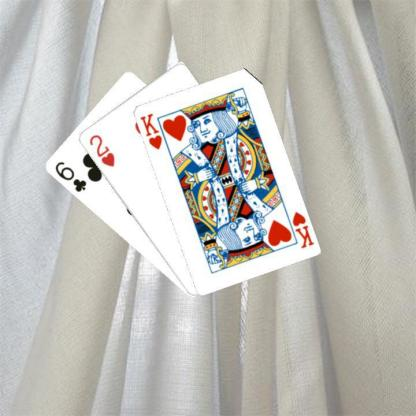2H: (86, 132, 116, 168)
6C: (52, 159, 87, 193)
KH: (137, 110, 163, 151), (289, 209, 314, 250)
